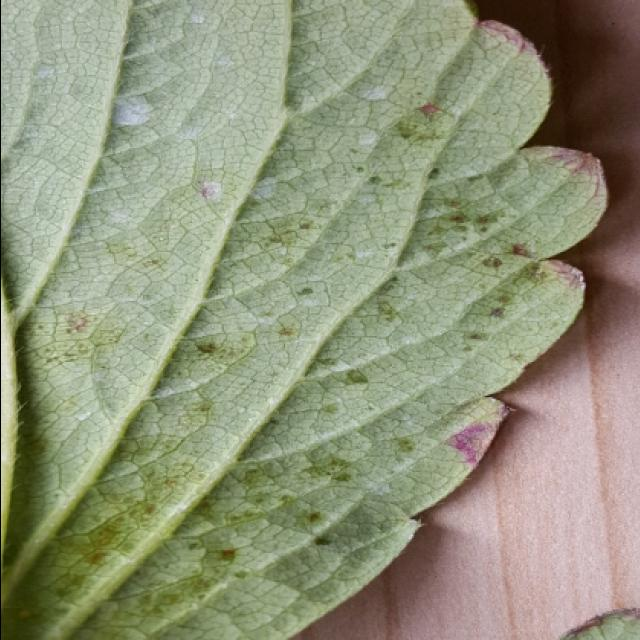Angular Leafspot: (2, 18, 606, 640)
